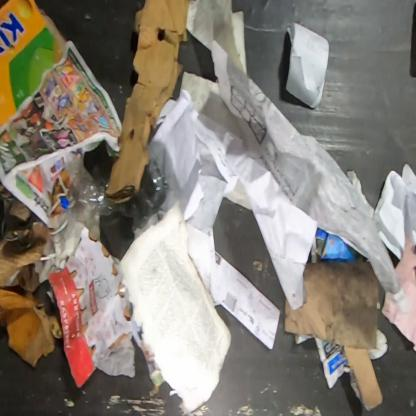cardboard: (106, 0, 190, 204), (285, 263, 384, 410), (46, 224, 134, 388), (0, 0, 66, 131), (0, 181, 57, 292), (0, 288, 63, 367)
rigid_plastic: (60, 159, 168, 223)
